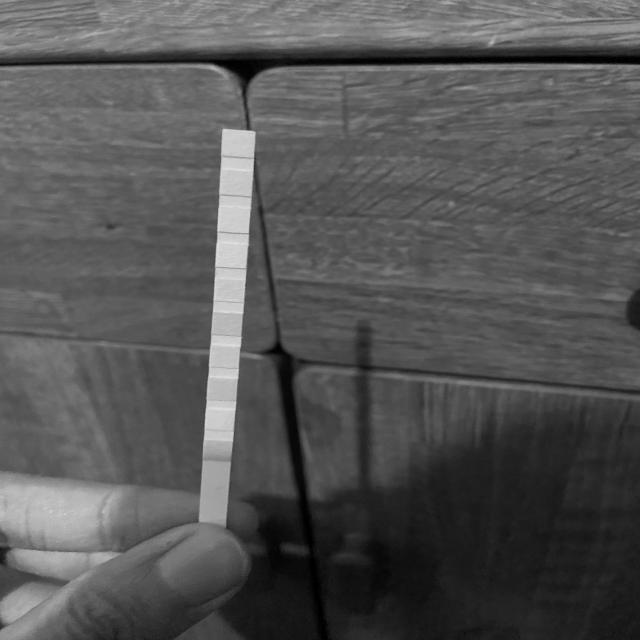Bilirubin: (207, 410, 235, 429)
Blood: (214, 314, 242, 334)
Glucose: (205, 441, 231, 460)
Ketone: (210, 380, 236, 400)
Leukocytes: (223, 132, 254, 156)
Nitrite: (222, 171, 251, 195)
Protein: (218, 244, 248, 266)
SpGravity: (212, 346, 239, 366)
Urobilinogen: (219, 209, 250, 232)
background: (0, 0, 640, 640)
pH: (217, 282, 244, 300)
strip: (200, 129, 256, 522)
